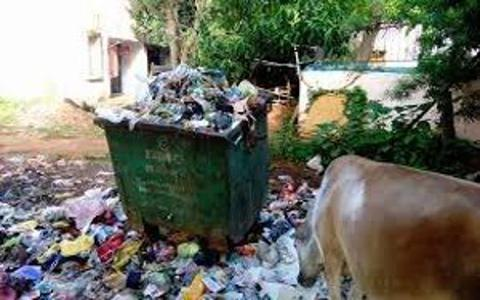overflowing garbage: (95, 65, 281, 281)
